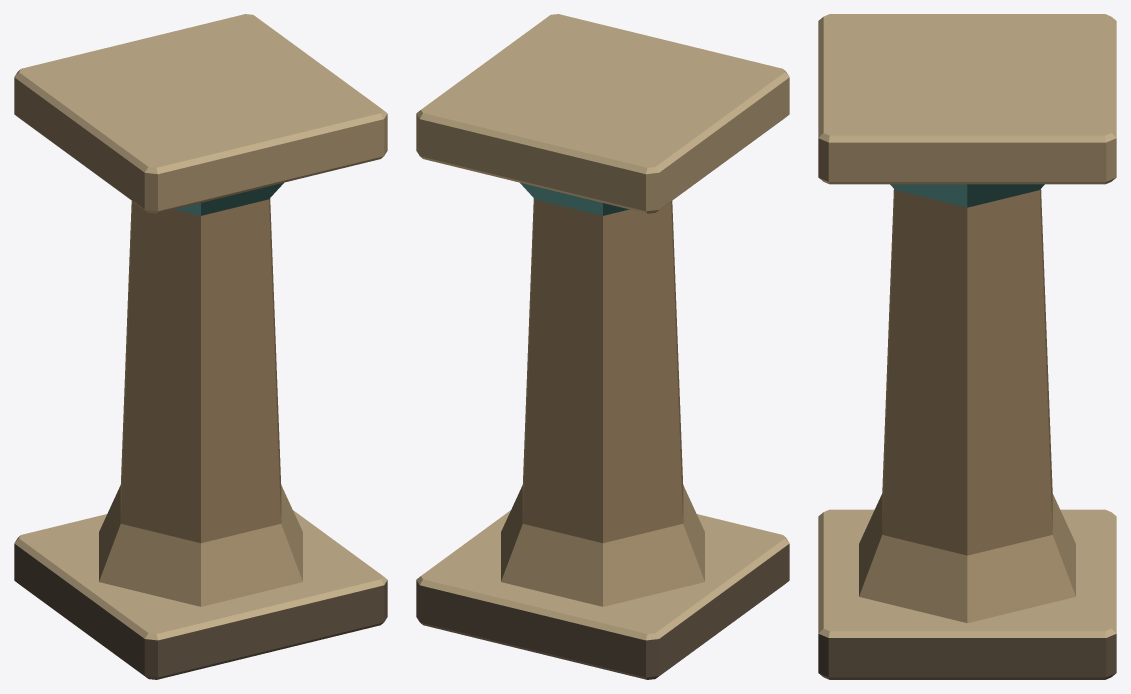
Rendered from pillar-small.glb.
3 renders of one model, left to right at view 1: azimuth 30°, elevation 25°; view 2: azimuth 150°, elevation 25°; view 3: azimuth 270°, elevation 25°, orthographic. The views are drawn at different scales.
Parts seen in each view (by area): view 1: pillar-small__body; view 2: pillar-small__body; view 3: pillar-small__body.
Part boxes in pixels (bbox=[...]): pillar-small__body: bbox=[14, 14, 387, 679]; pillar-small__body: bbox=[416, 14, 789, 679]; pillar-small__body: bbox=[818, 14, 1116, 679].
Bounding box in the file's own units: 0.72 × 1.45 × 0.72.
